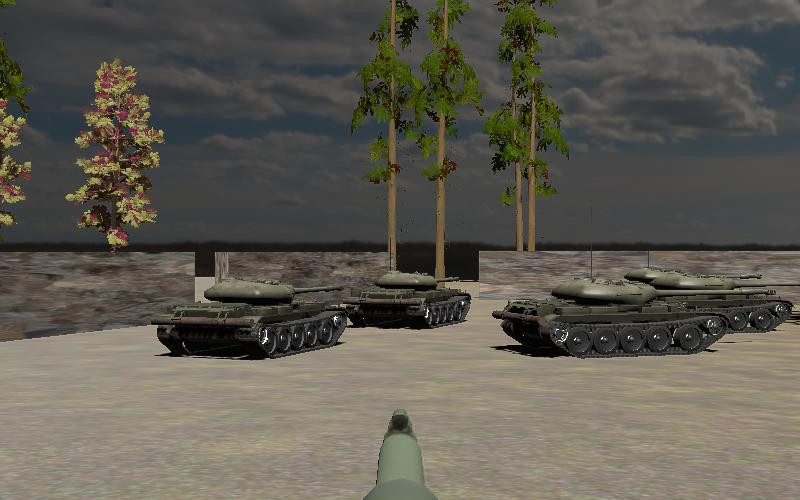Tank: (490, 279, 791, 357), (152, 278, 348, 362), (637, 279, 798, 335), (342, 268, 478, 331)
